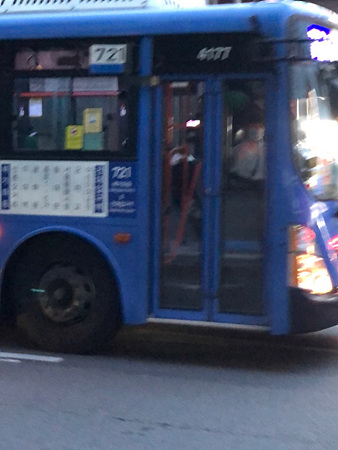entrance: (158, 74, 280, 329)
